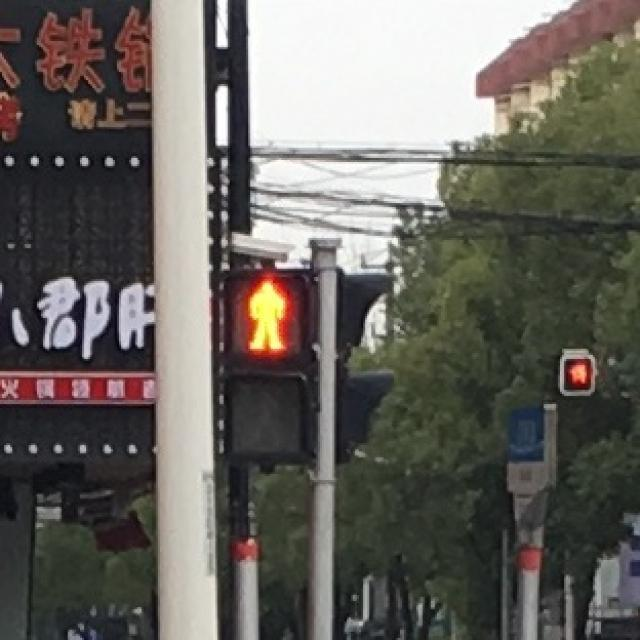red-crossing: (230, 273, 304, 357)
